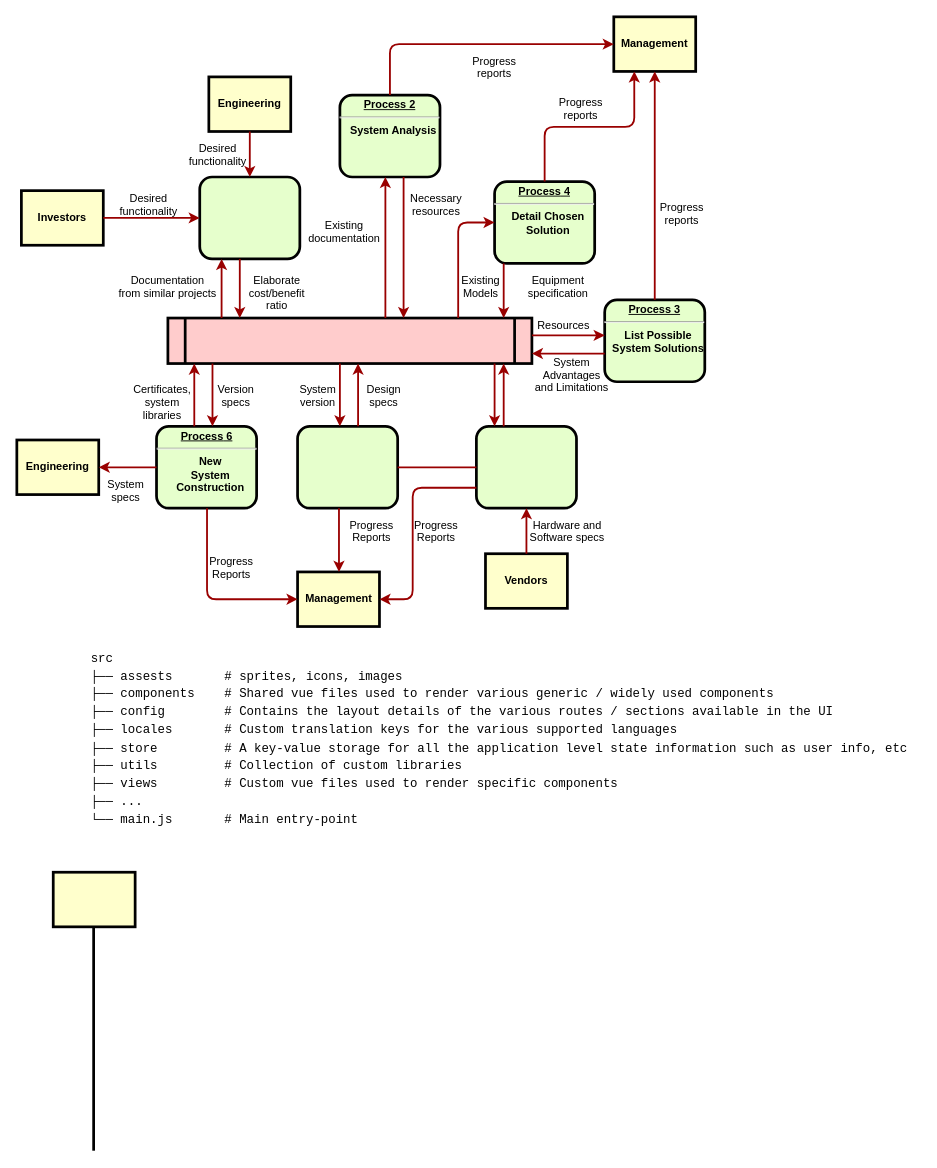
Image size: 937x1168. Some labels were removed from this diagram. Here are the shapes that lost their labels. From the top down, the centre of each, then its label:
At (249,217): "Process 1 System Study Preparation".
At (349,340): "ON-DEMAND SYSTEM DEVELOPMENT".
At (347,467): "Process 7 New System Startup and Testing".
At (526,467): "Process 5 New System Design".
At (93,899): "src".
